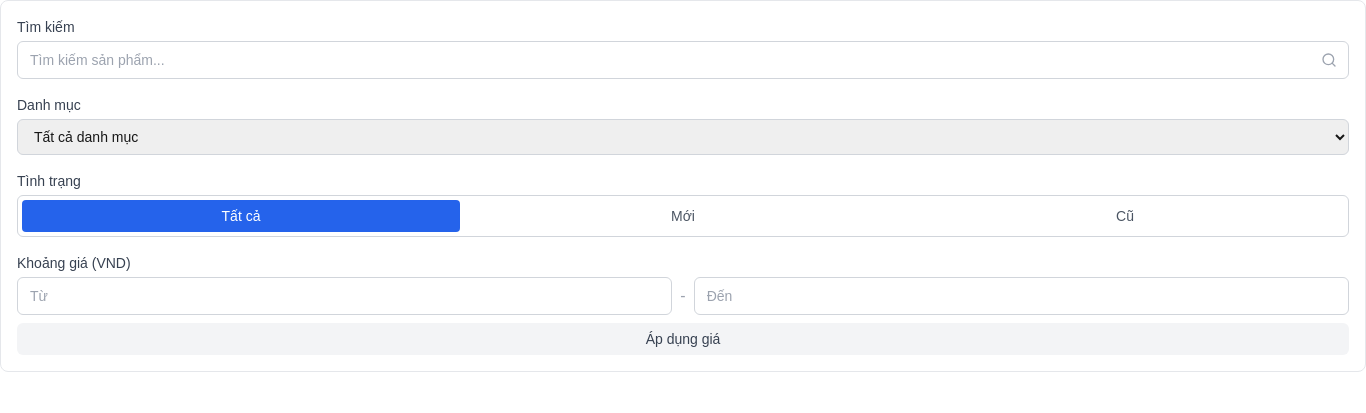
Test case: ProductFilters › clears price error when price inputs change
// Trigger error first
In the number field named "Giá tối thiểu": (345, 296) top-left (17, 277), bottom-right (672, 315), type "30000000"
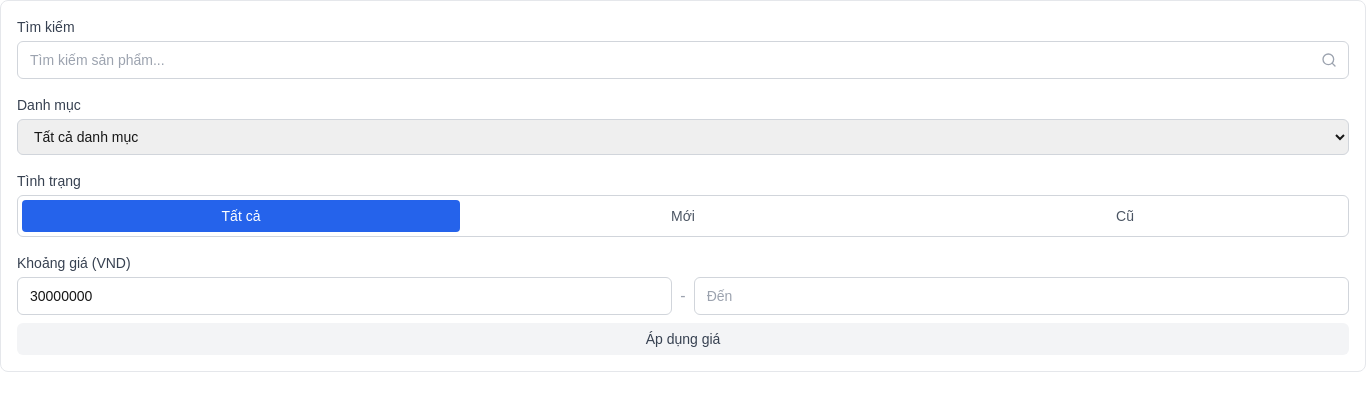
In the number field named "Giá tối đa": (1021, 296) top-left (694, 277), bottom-right (1349, 315), type "10000000"
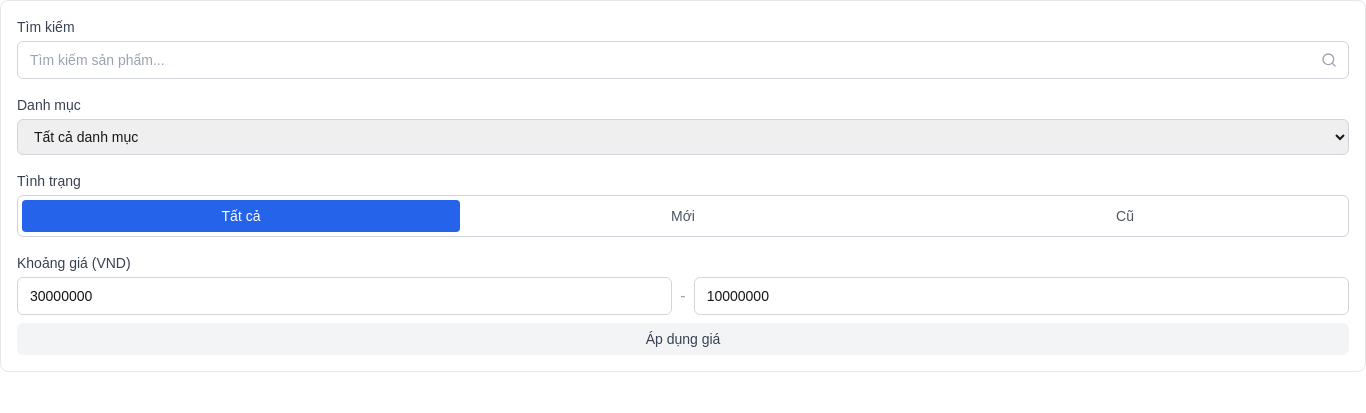
Click the button "Áp dụng giá": (683, 339) top-left (17, 323), bottom-right (1349, 355)
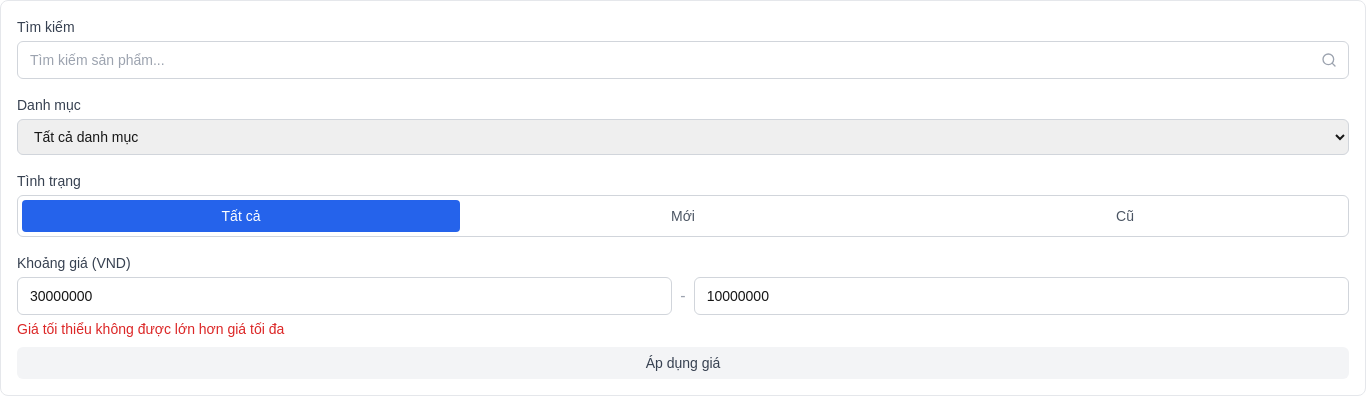
Check: the text "Giá tối thiểu không được lớn hơn giá tối đa" is shown, box top-left (17, 321), bottom-right (284, 337)
// Change min price - error should clear
Replace the text in the number field named "Giá tối thiểu" with "5000000": (345, 296) top-left (17, 277), bottom-right (672, 315)
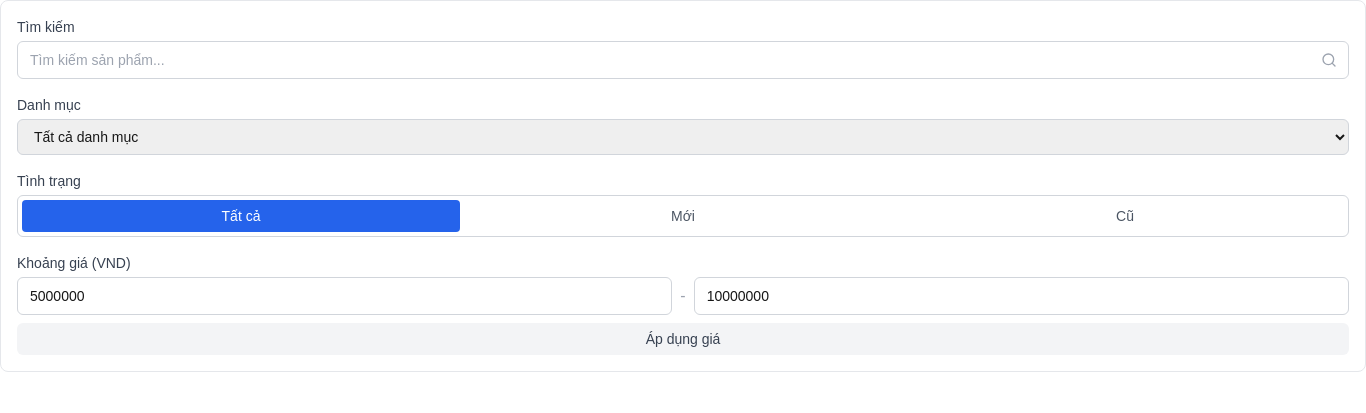
Check: the text "Giá tối thiểu không được lớn hơn giá tối đa" is gone
